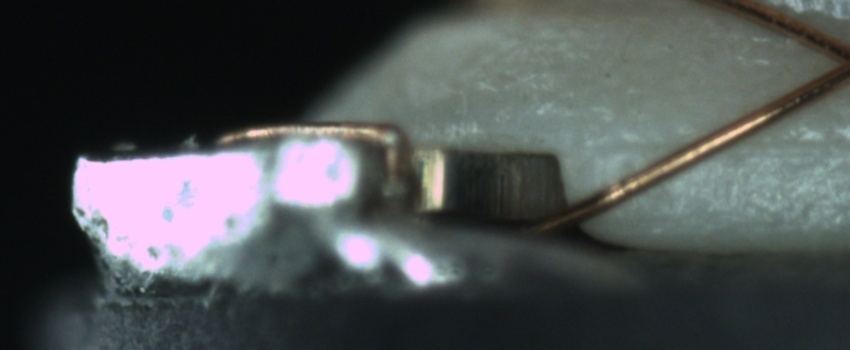CL: (809, 25, 850, 93)
DL: (573, 113, 849, 177)
TE: (209, 112, 413, 217)
